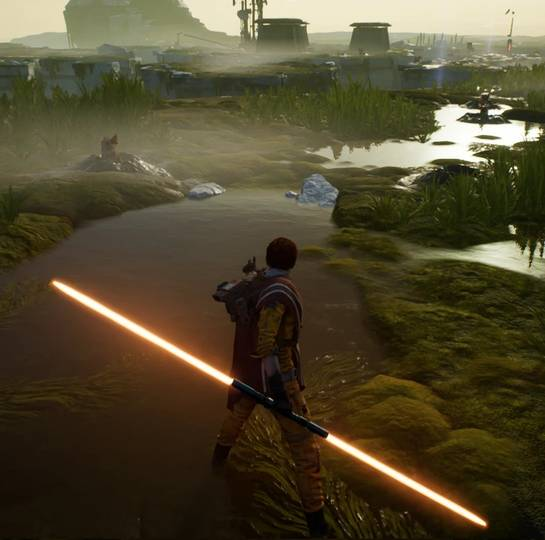lightsaber: (64, 270, 545, 540)
